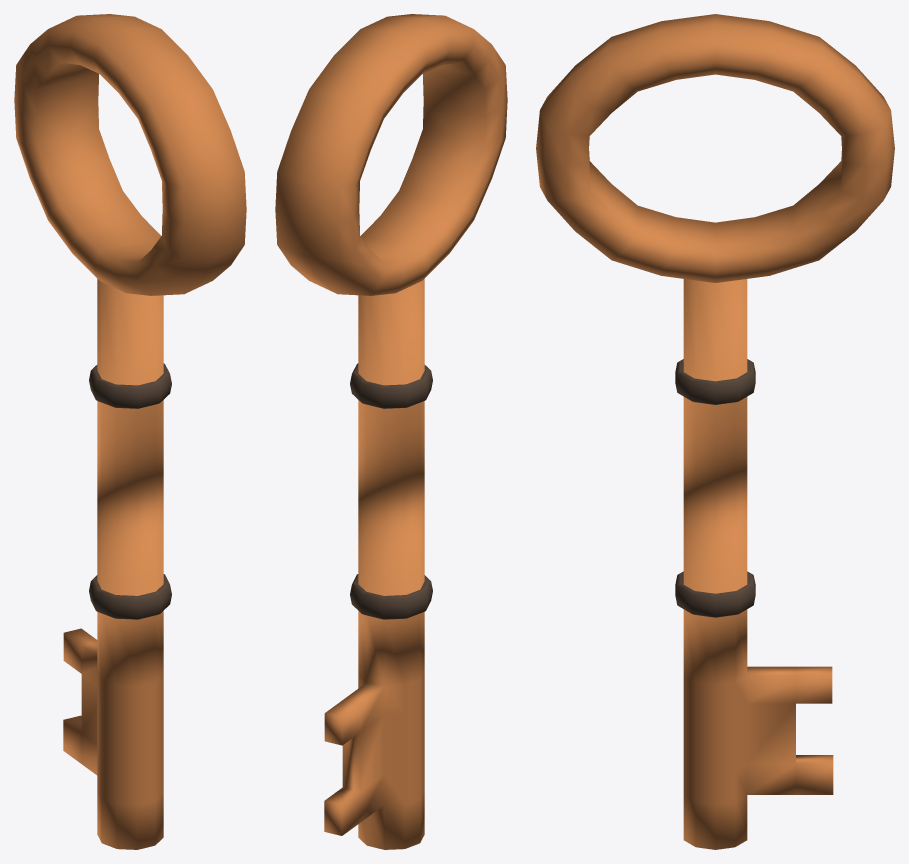
The model's file is Llave.fbx.
The picture shows the model from 3 angles, left to right: view 1: azimuth 30°, elevation 25°; view 2: azimuth 150°, elevation 25°; view 3: azimuth 270°, elevation 25°; orthographic projection.
Parts seen in each view (by area): view 1: Circle.001; view 2: Circle.001; view 3: Circle.001.
Boxes of the visible parts, bbox=[...] form: Circle.001: bbox=[14, 14, 246, 849]; Circle.001: bbox=[275, 14, 507, 849]; Circle.001: bbox=[536, 14, 894, 849].
Size of the model in its own units: 3.98 by 41.86 by 16.77.
